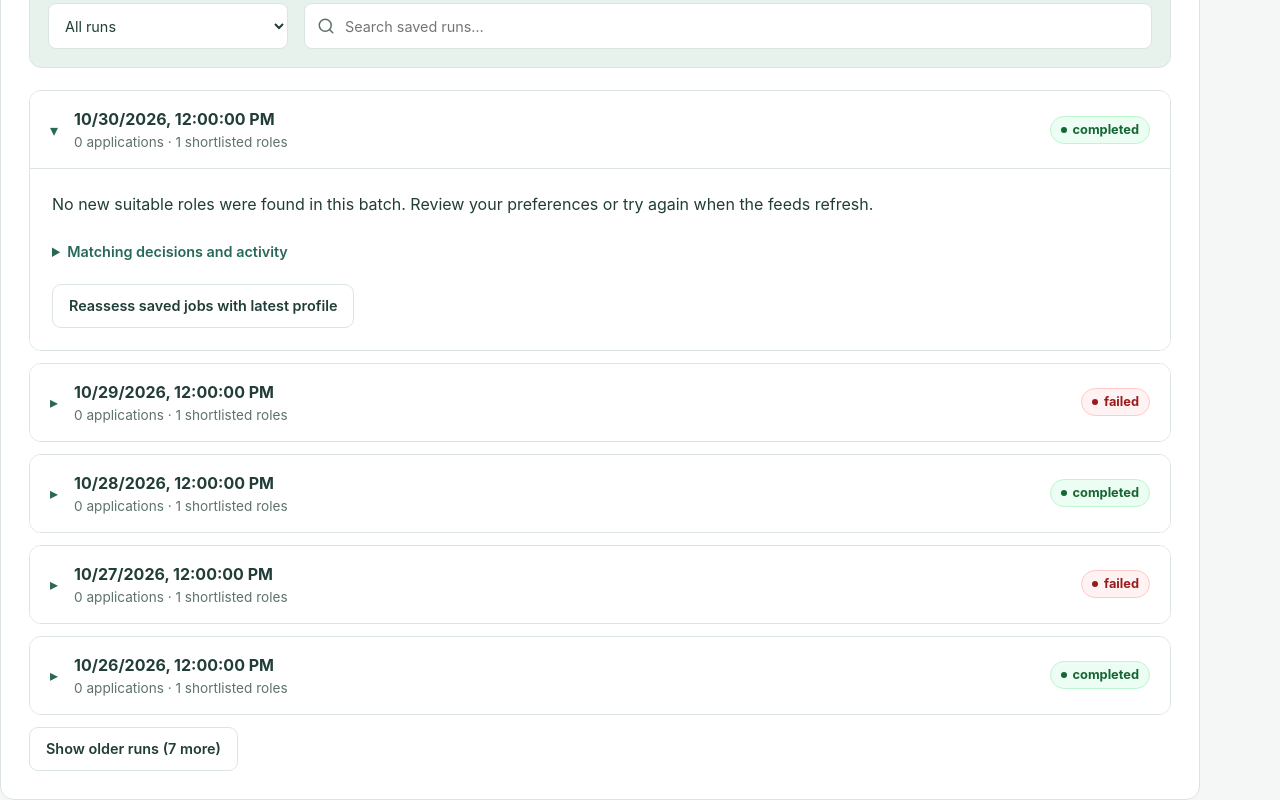
it: keeps older runs compact and filters saved activity
(page scrolled)
Expected: the number of elements with class "discovery-run" is 5, [29,90,1171,351]; [29,363,1171,442]; [29,454,1171,533]; [29,545,1171,624]; [29,636,1171,715]
Click the button "Show older runs (7 more)" at x=133, y=749, box [29,727,238,771]
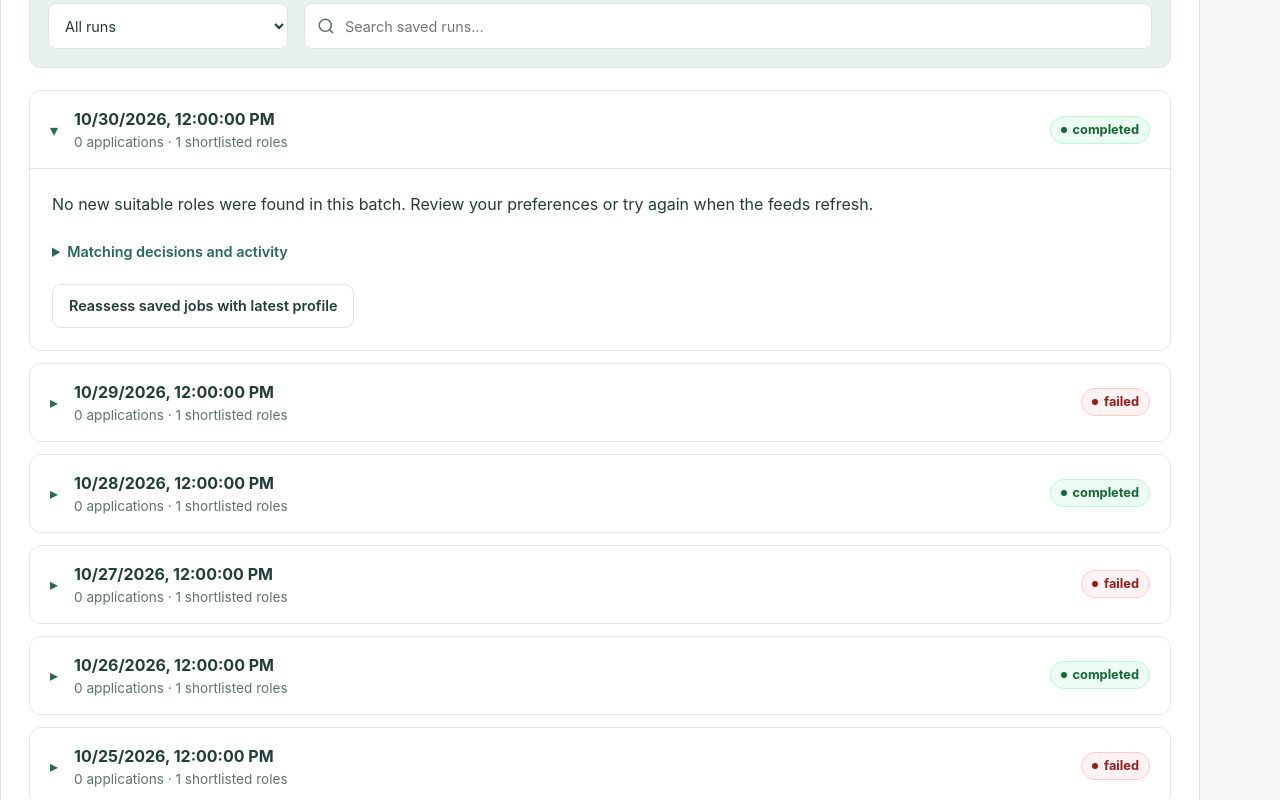
Now the number of elements with class "discovery-run" is 10
Select "Needs attention" in the dropdown labelled "Show runs" at x=168, y=26, box [48,3,288,49]
(page scrolled)
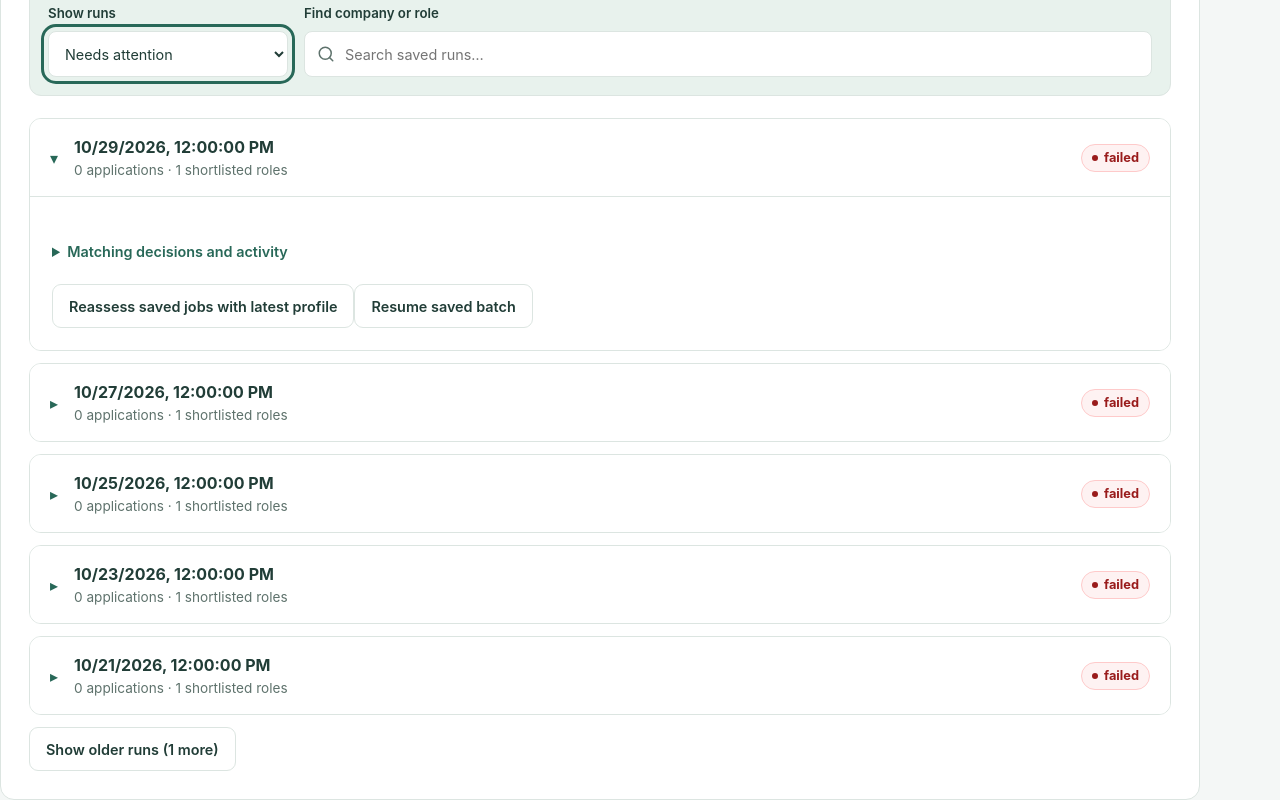
Now the number of elements with class "discovery-run" is 5, box [29,118,1171,351]; [29,363,1171,442]; [29,454,1171,533]; [29,545,1171,624]; [29,636,1171,715]
Type "Company 11" into the search field labelled "Find company or role" at x=728, y=54, box [304,31,1152,77]
(page scrolled)
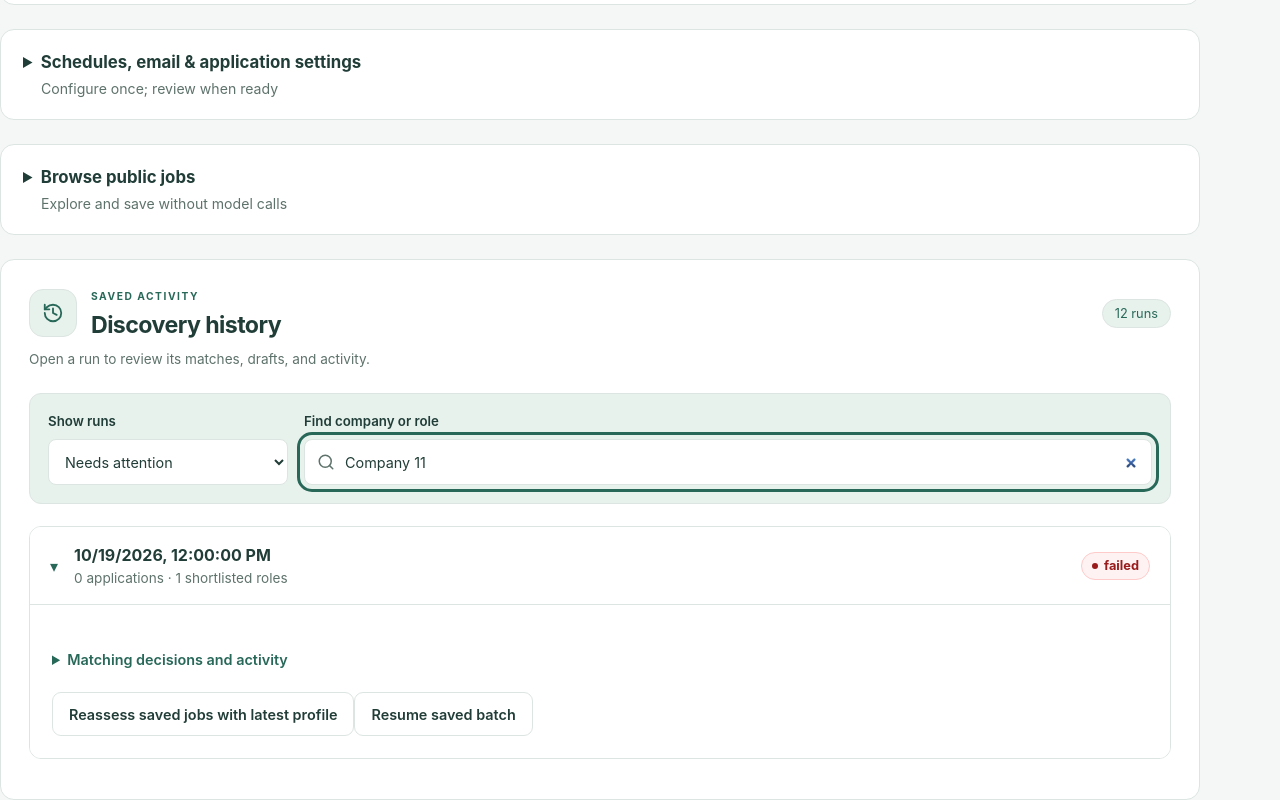
Now the number of elements with class "discovery-run" is 1, box [29,526,1171,759]
